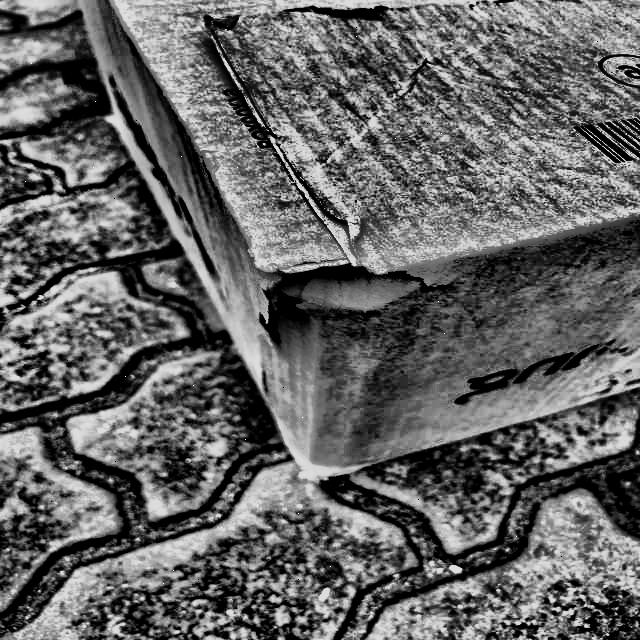box: (78, 0, 640, 517)
hole: (255, 242, 429, 339)
